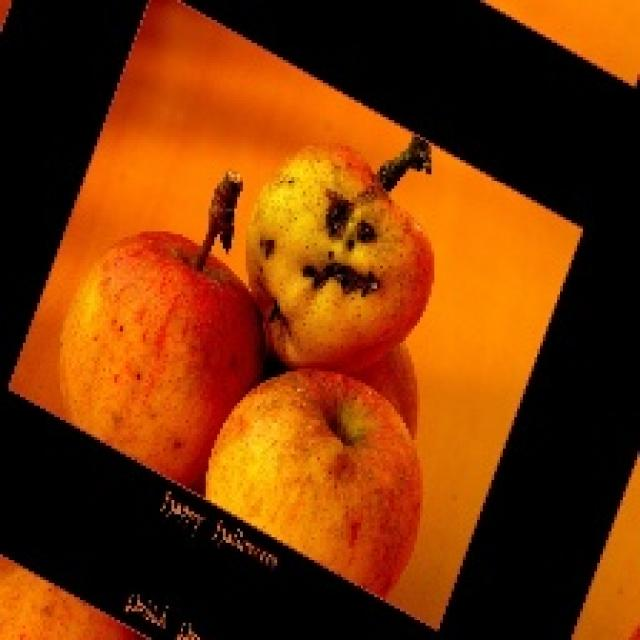rotten_apple: (254, 143, 432, 365)
